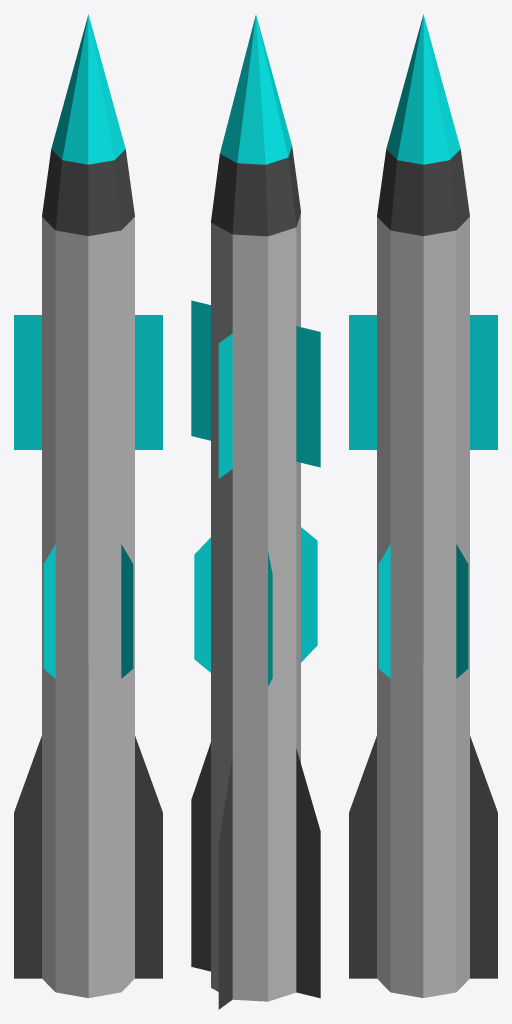
The model's file is Item_Missile.fbx.
The picture shows the model from 3 angles, left to right: view 1: azimuth 90°, elevation 25°; view 2: azimuth 150°, elevation 25°; view 3: azimuth 270°, elevation 25°; orthographic projection.
Parts seen in each view (by area): view 1: C-missile; view 2: C-missile; view 3: C-missile.
Boxes of the visible parts, x1,y1,x2,y2 form: C-missile: (14,14,162,997); C-missile: (191,15,320,1009); C-missile: (349,14,497,997).
Size of the model in its own units: 17.5 by 125 by 17.5.
